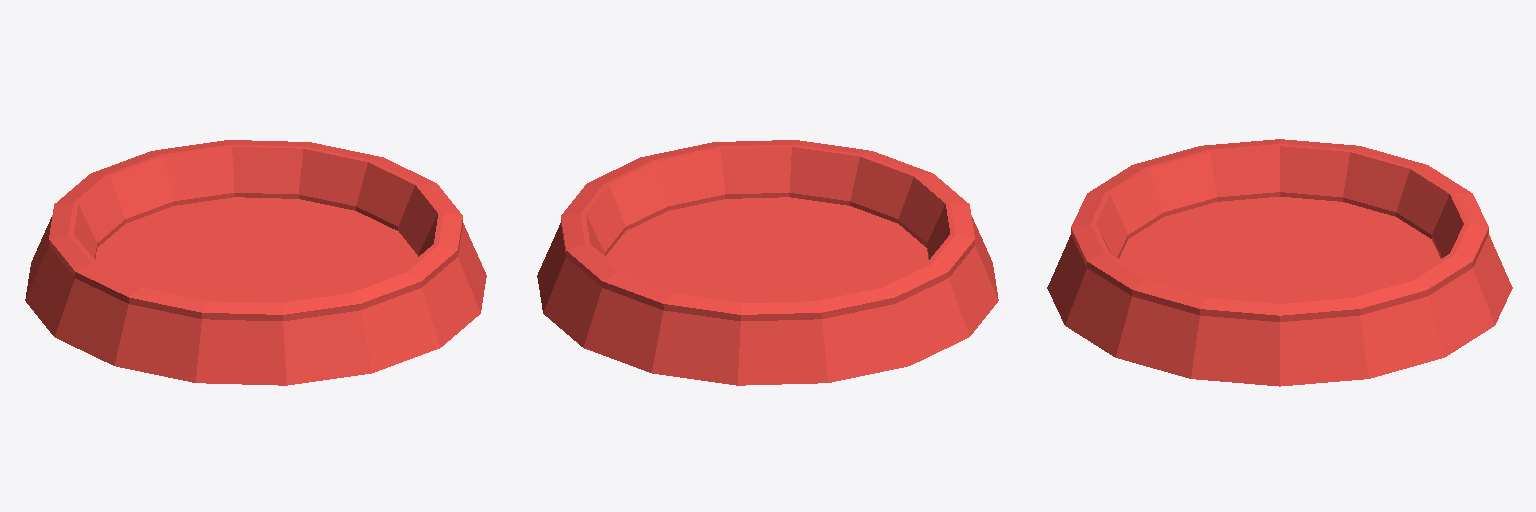
3 views of the same model, side by side, from view 1: azimuth 30°, elevation 25°; view 2: azimuth 150°, elevation 25°; view 3: azimuth 270°, elevation 25° (orthographic).
Parts seen in each view (by area): view 1: Pot_Cylinder; view 2: Pot_Cylinder; view 3: Pot_Cylinder.
Boxes of the visible parts, x1=… form: Pot_Cylinder: x1=25, y1=140, x2=486, y2=385; Pot_Cylinder: x1=537, y1=140, x2=998, y2=385; Pot_Cylinder: x1=1047, y1=139, x2=1512, y2=386.
Bounding box in the file's own units: 2.48 × 0.3788 × 2.48.
2 materials, 1 textured.